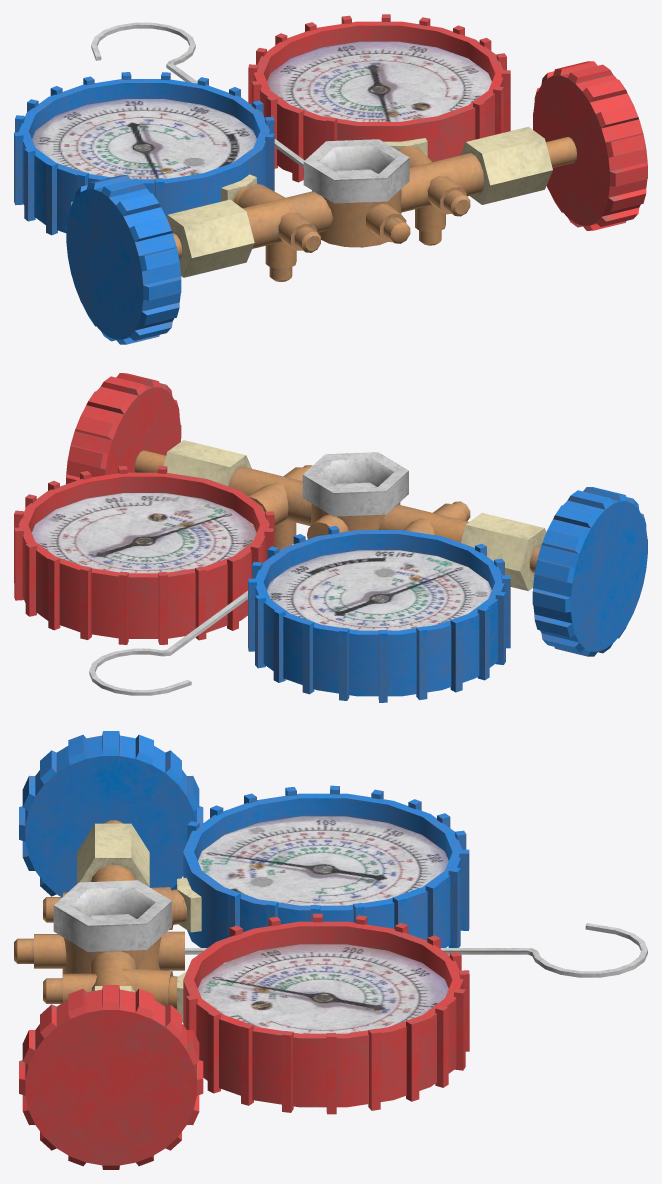
The model's file is Tool_Gauge_manifold.glb.
The picture shows the model from 3 angles, top to bottom: view 1: azimuth 30°, elevation 25°; view 2: azimuth 150°, elevation 25°; view 3: azimuth 270°, elevation 25°; orthographic projection. The views are drawn at different scales.
Parts seen in each view (by area): view 1: Gauge manifold_lp; view 2: Gauge manifold_lp; view 3: Gauge manifold_lp.
Part boxes in pixels (bbox=[...]): Gauge manifold_lp: bbox=[14, 14, 647, 344]; Gauge manifold_lp: bbox=[14, 373, 647, 702]; Gauge manifold_lp: bbox=[14, 731, 647, 1169].
Size of the model in its own units: 0.1994 by 0.0566 by 0.1945.
Materials: 1 (1 with a texture image).
